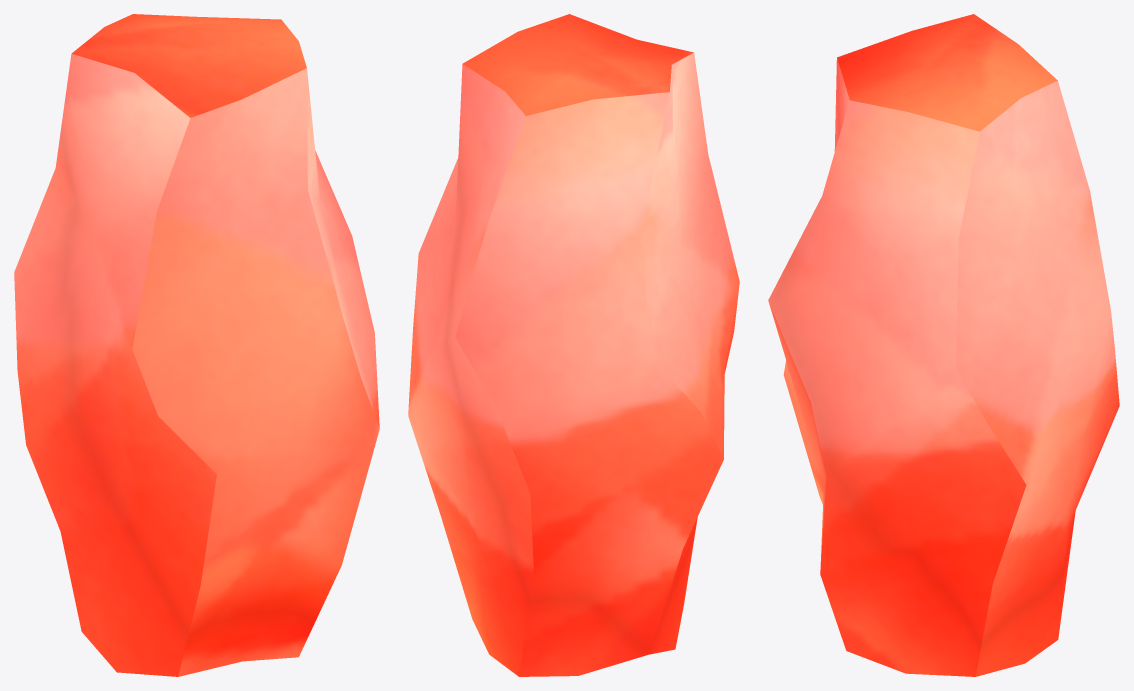
The model's file is OreOrrange.glb.
The picture shows the model from 3 angles, left to right: view 1: azimuth 30°, elevation 25°; view 2: azimuth 150°, elevation 25°; view 3: azimuth 270°, elevation 25°; orthographic projection. The views are drawn at different scales.
Visible parts, largest first — view 1: Cube.014; view 2: Cube.014; view 3: Cube.014.
Part boxes in pixels (x1,y1,x2,y2): Cube.014: (14, 14, 379, 676); Cube.014: (408, 14, 739, 676); Cube.014: (768, 14, 1119, 676).
Size of what is drawn, in the model's own units: 2.01 by 3.63 by 2.
Materials: 1 (1 with a texture image).
